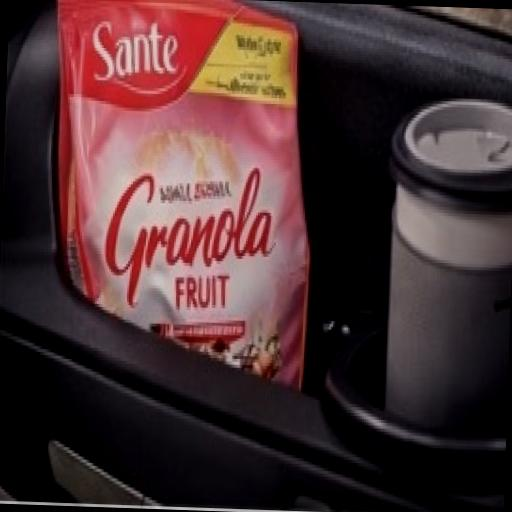granola: (32, 0, 356, 435)
